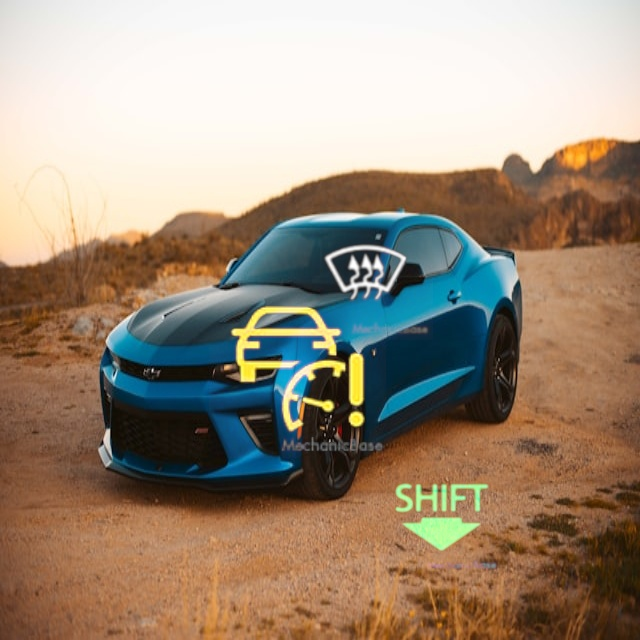symbol: (209, 281, 386, 458), (301, 208, 433, 340), (379, 453, 501, 575)
